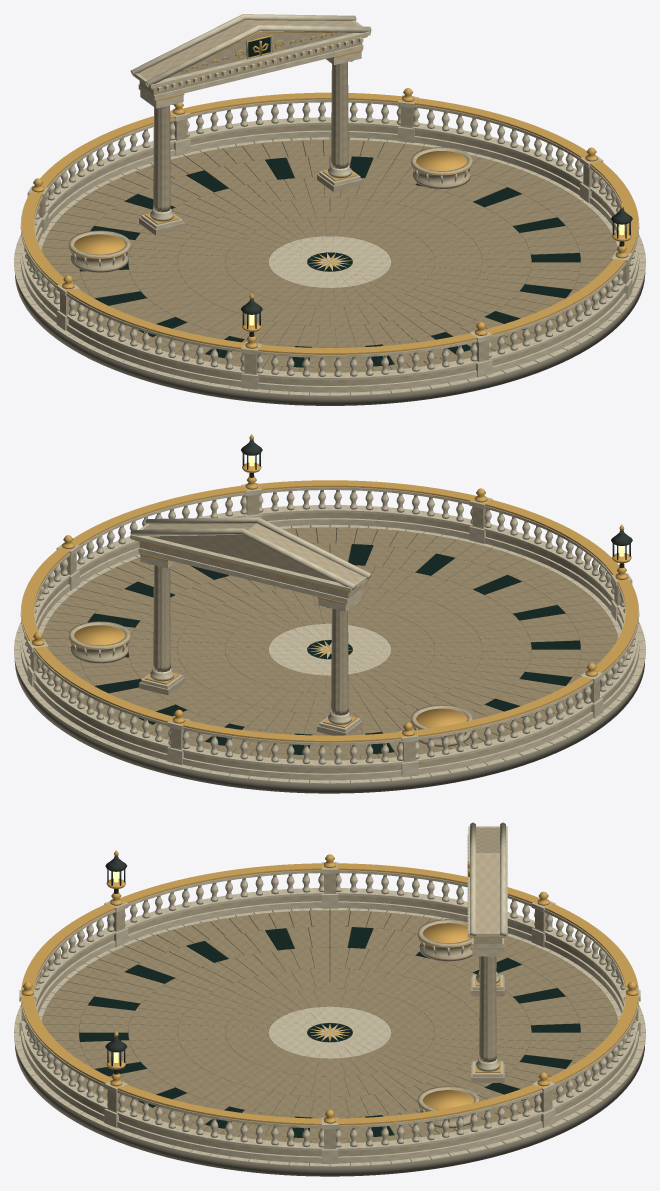
Rendered from arrival.glb.
3 views of the same model, one above another, from view 1: azimuth 30°, elevation 25°; view 2: azimuth 150°, elevation 25°; view 3: azimuth 270°, elevation 25° (orthographic).
Parts seen in each view (by area): view 1: 01 Terrasse Arrival Dalles de Bourgogne, 02 Balustrade Arrival Pierre sculptee, 02 Balustrade Arrival Bronze dore patine, 02 Balustrade Arrival Pierre sculptee.001, 01 Terrasse Arrival Pierre sculptee, 02 Balustrade Arrival Calcaire creme, 01 Terrasse Arrival Joints et terre, 01 Terrasse Arrival Marbre vert, 03 Portique Arrival Calcaire creme, 03 Portique Arrival Pierre sculptee, 03 Portique Arrival Calcaire creme.001, 03 Portique Arrival Pierre sculptee.001 (+6 smaller); view 2: 01 Terrasse Arrival Dalles de Bourgogne, 02 Balustrade Arrival Pierre sculptee, 02 Balustrade Arrival Bronze dore patine, 02 Balustrade Arrival Pierre sculptee.001, 01 Terrasse Arrival Pierre sculptee, 02 Balustrade Arrival Calcaire creme, 01 Terrasse Arrival Joints et terre, 03 Portique Arrival Calcaire creme, 01 Terrasse Arrival Marbre vert, 03 Portique Arrival Pierre sculptee, 03 Portique Arrival Calcaire creme.001, 03 Portique Arrival Pierre sculptee.001 (+5 smaller); view 3: 01 Terrasse Arrival Dalles de Bourgogne, 02 Balustrade Arrival Pierre sculptee, 02 Balustrade Arrival Bronze dore patine, 02 Balustrade Arrival Pierre sculptee.001, 01 Terrasse Arrival Pierre sculptee, 02 Balustrade Arrival Calcaire creme, 01 Terrasse Arrival Joints et terre, 01 Terrasse Arrival Marbre vert, 03 Portique Arrival Calcaire creme, 04 Jardinières Arrival Calcaire creme, 03 Portique Arrival Calcaire creme.001, 03 Portique Arrival Pierre sculptee.001 (+4 smaller).
Part boxes in pixels (box(x1,y1,x2,y2)): 01 Terrasse Arrival Dalles de Bourgogne: box(41, 139, 617, 372); 02 Balustrade Arrival Pierre sculptee: box(20, 95, 639, 392); 02 Balustrade Arrival Bronze dore patine: box(21, 92, 638, 354); 02 Balustrade Arrival Pierre sculptee.001: box(24, 102, 635, 376); 01 Terrasse Arrival Pierre sculptee: box(14, 137, 645, 396); 02 Balustrade Arrival Calcaire creme: box(24, 107, 635, 385); 01 Terrasse Arrival Joints et terre: box(15, 137, 645, 405); 01 Terrasse Arrival Marbre vert: box(79, 156, 580, 367); 03 Portique Arrival Calcaire creme: box(138, 20, 362, 235); 03 Portique Arrival Pierre sculptee: box(134, 20, 370, 229); 03 Portique Arrival Calcaire creme.001: box(153, 62, 348, 212); 03 Portique Arrival Pierre sculptee.001: box(130, 14, 371, 221); 01 Terrasse Arrival Dalles de Bourgogne: box(42, 527, 618, 760); 02 Balustrade Arrival Pierre sculptee: box(20, 483, 639, 780); 02 Balustrade Arrival Bronze dore patine: box(21, 480, 638, 742); 02 Balustrade Arrival Pierre sculptee.001: box(24, 490, 635, 764); 01 Terrasse Arrival Pierre sculptee: box(14, 525, 645, 783); 02 Balustrade Arrival Calcaire creme: box(24, 494, 635, 773); 01 Terrasse Arrival Joints et terre: box(14, 525, 644, 793); 03 Portique Arrival Calcaire creme: box(139, 523, 363, 735); 01 Terrasse Arrival Marbre vert: box(88, 544, 580, 754); 03 Portique Arrival Pierre sculptee: box(131, 523, 367, 732); 03 Portique Arrival Calcaire creme.001: box(153, 565, 348, 715); 03 Portique Arrival Pierre sculptee.001: box(130, 517, 371, 724); 01 Terrasse Arrival Dalles de Bourgogne: box(41, 910, 618, 1143); 02 Balustrade Arrival Pierre sculptee: box(19, 862, 640, 1163); 02 Balustrade Arrival Bronze dore patine: box(21, 863, 638, 1125); 02 Balustrade Arrival Pierre sculptee.001: box(24, 873, 635, 1147); 01 Terrasse Arrival Pierre sculptee: box(14, 908, 645, 1166); 02 Balustrade Arrival Calcaire creme: box(21, 873, 638, 1156); 01 Terrasse Arrival Joints et terre: box(14, 908, 645, 1176); 01 Terrasse Arrival Marbre vert: box(79, 927, 580, 1137); 03 Portique Arrival Calcaire creme: box(471, 827, 504, 1082); 04 Jardinières Arrival Calcaire creme: box(417, 919, 479, 1128); 03 Portique Arrival Calcaire creme.001: box(479, 956, 496, 1062); 03 Portique Arrival Pierre sculptee.001: box(470, 822, 505, 1071).
Bounding box in the file's own units: 16 × 5.46 × 16.
8 materials, 4 textured.
